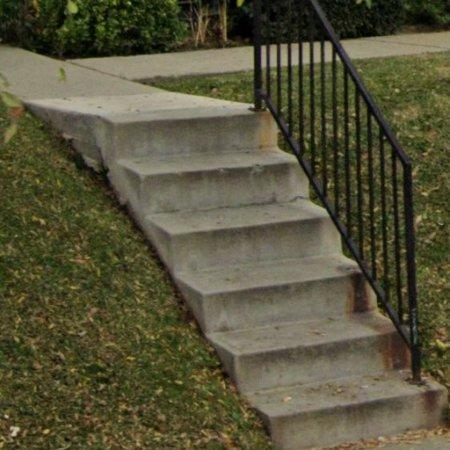stairs: (0, 46, 445, 450)
